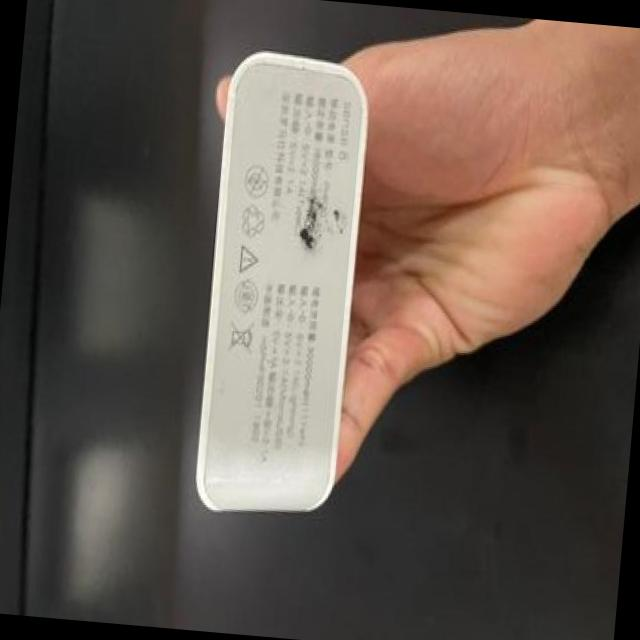power_bank: (178, 39, 380, 526)
